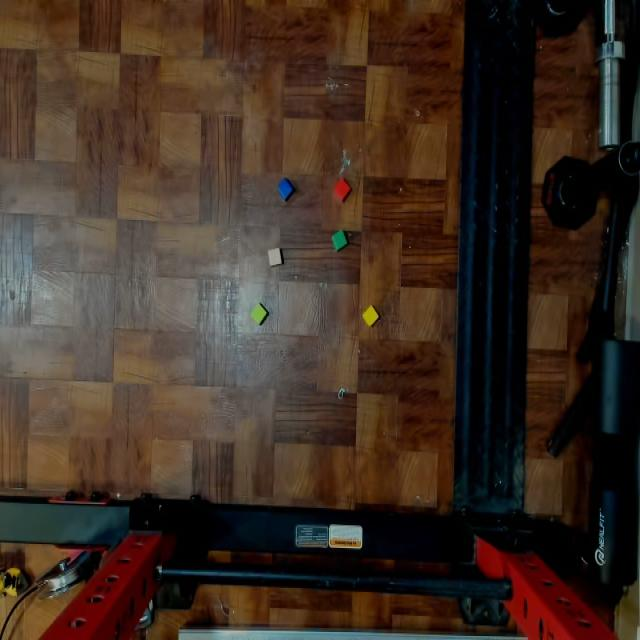block: (278, 177, 295, 201), (334, 177, 351, 201), (362, 305, 379, 327), (251, 303, 268, 324), (333, 231, 347, 251), (269, 248, 283, 265)
